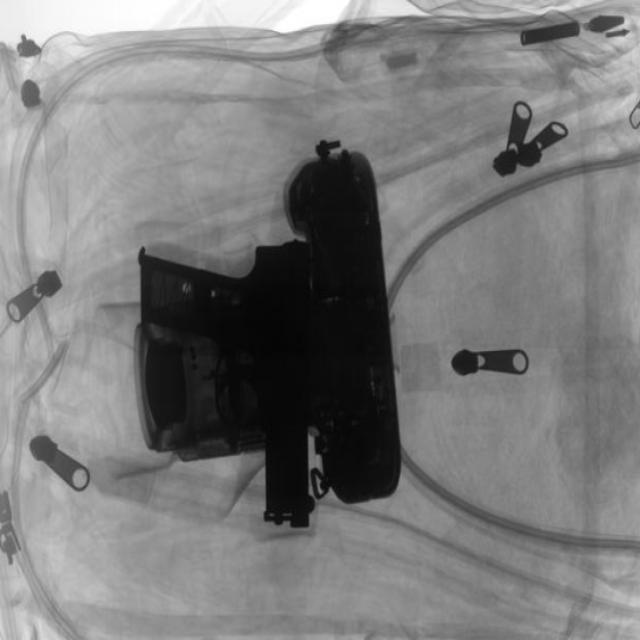GUN: (118, 237, 308, 537)
